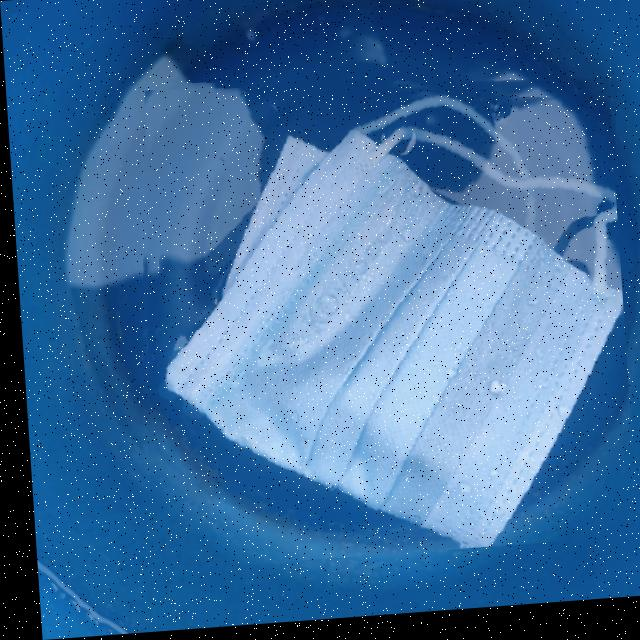mask: (118, 65, 630, 572)
